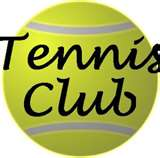tennis ball: (2, 1, 159, 156)
